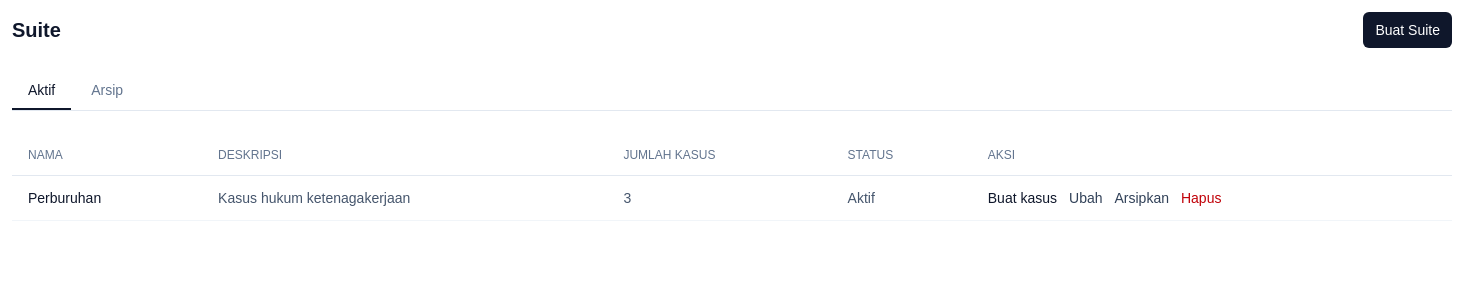
Test: SuitesPage › shows an error when archiving fails
This screenshot has width=1464, height=298.
Click the button with aria-label "Arsipkan Perburuhan" at (1142, 198), box [1114,188,1169,208]
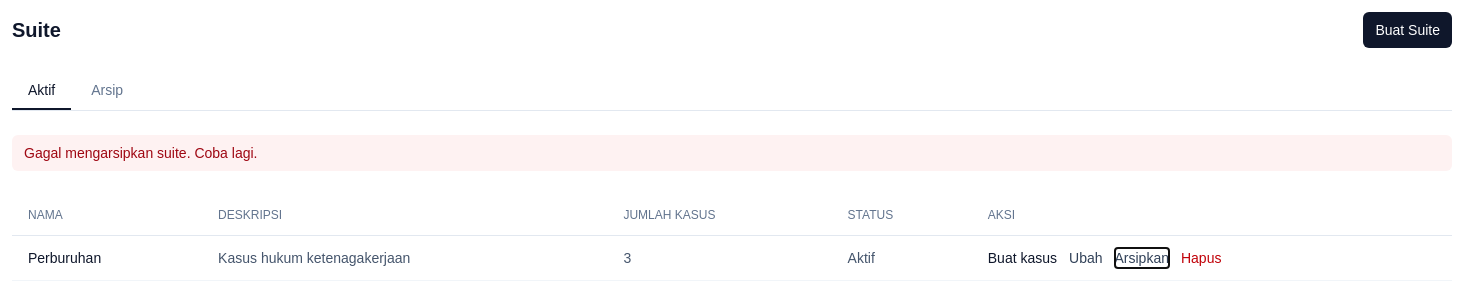
Now the message "Gagal mengarsipkan suite. Coba lagi." is shown, box [12,135,1452,171]
